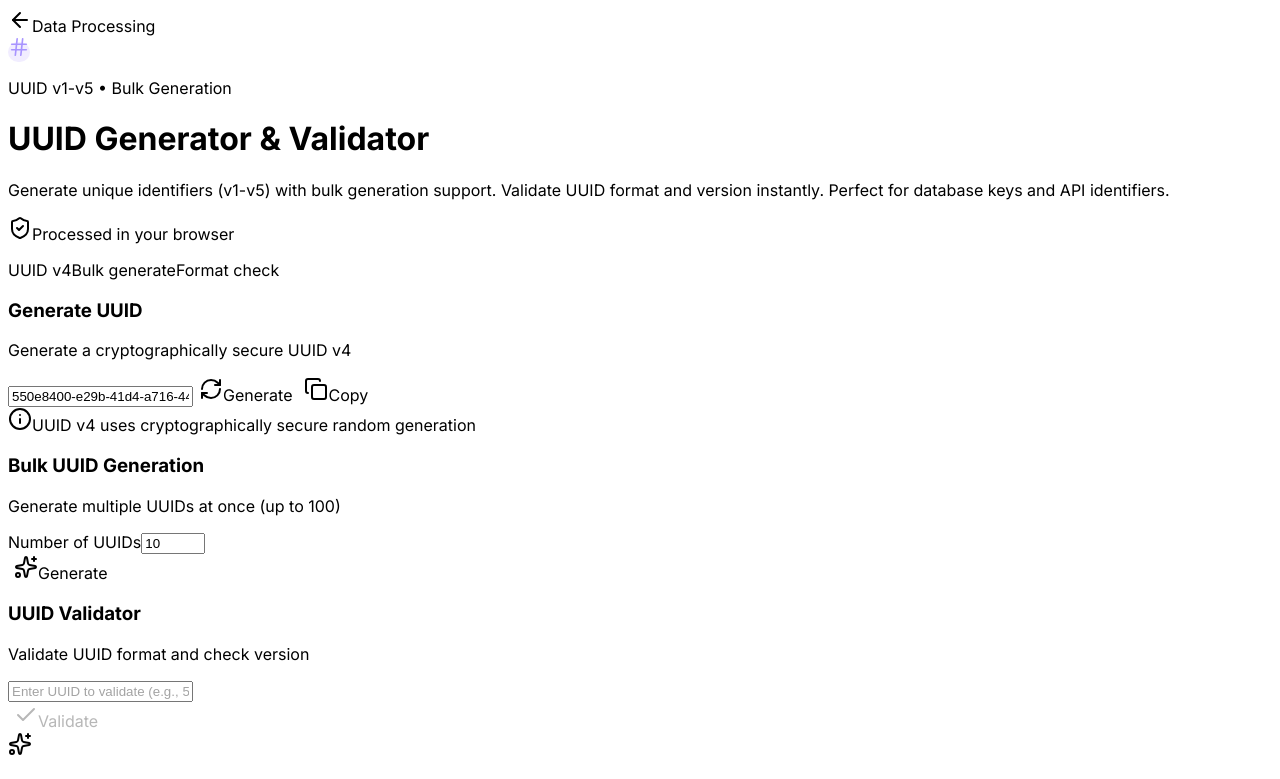
Test case: UUID Generator Page › Single UUID Generation › shows "Copied" state after successful copy
This screenshot has width=1280, height=779.
Click the button "Copy": [336, 391] box [298,376,374,406]
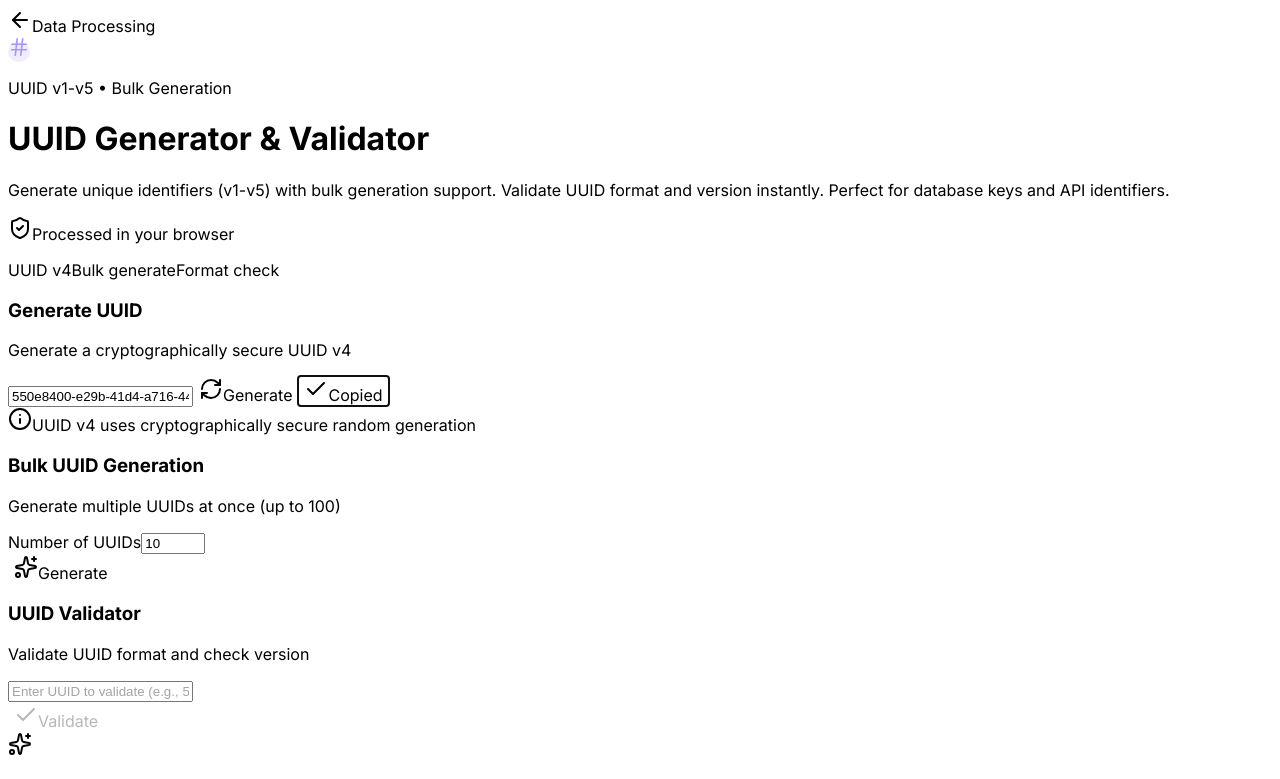
Result: the button "Copied" is shown at [298,376,389,406]
